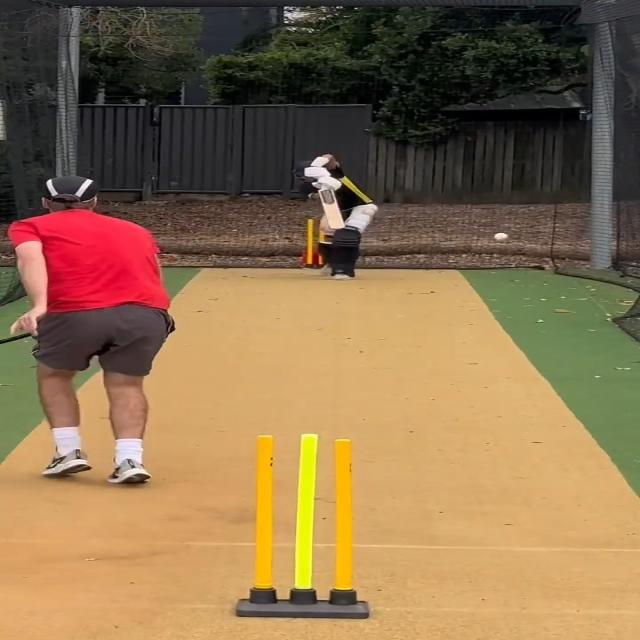ball: (491, 232, 510, 244)
stump: (234, 431, 371, 618)
